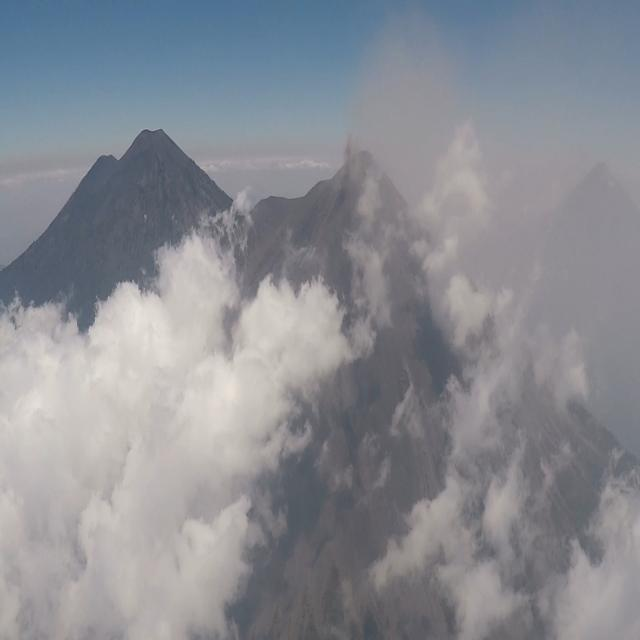Plume: (345, 130, 361, 160)
Summit: (302, 147, 412, 216)
